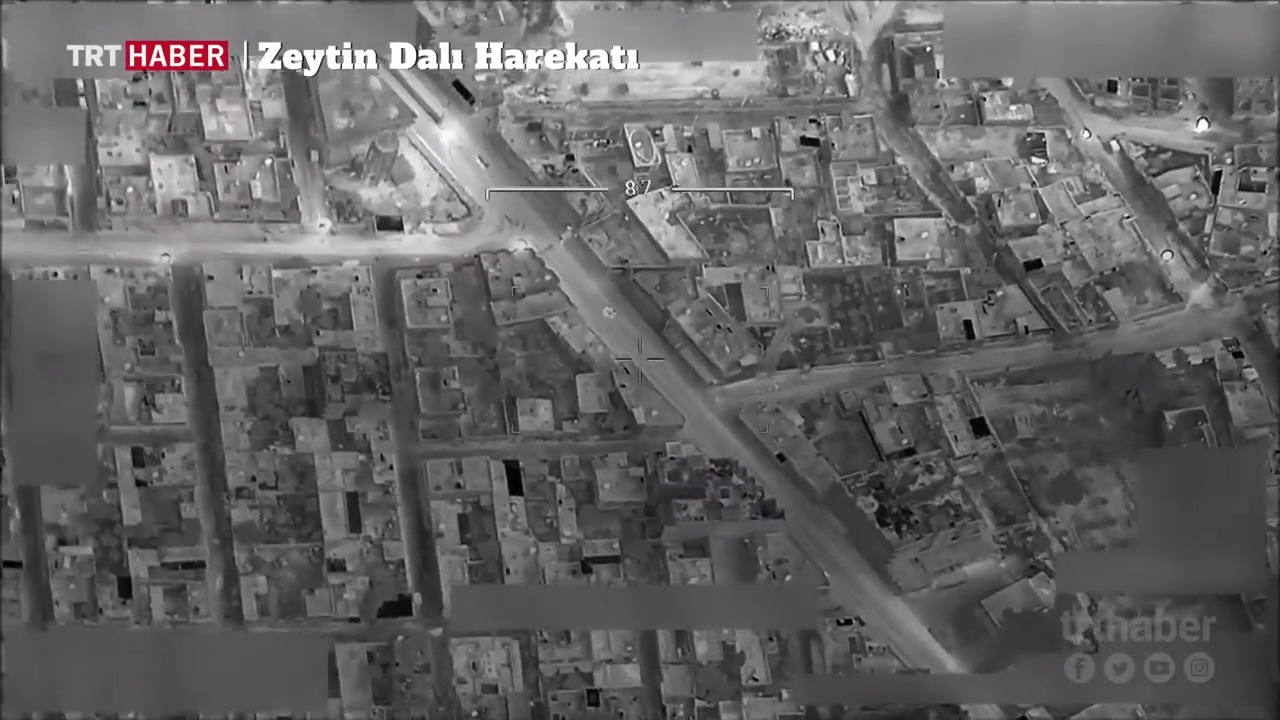bina: (362, 125, 407, 186)
